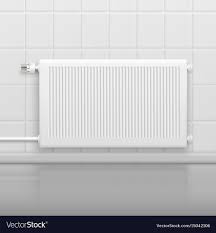Radiator: (18, 57, 193, 150)
